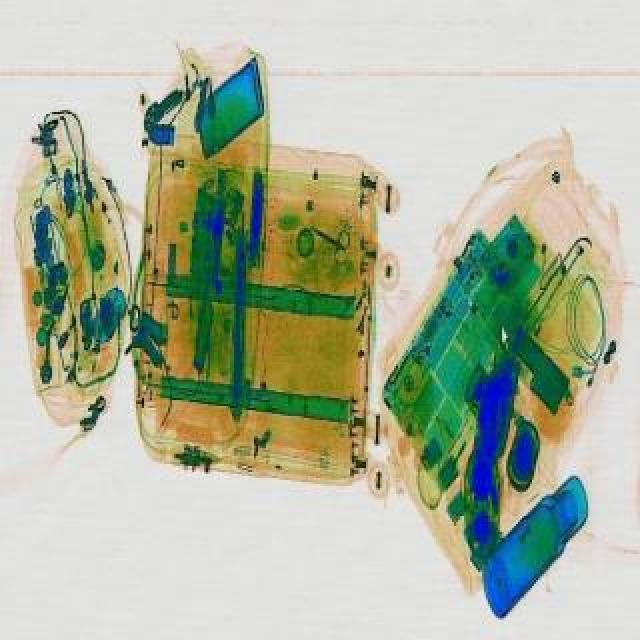pliers: (302, 214, 360, 262)
